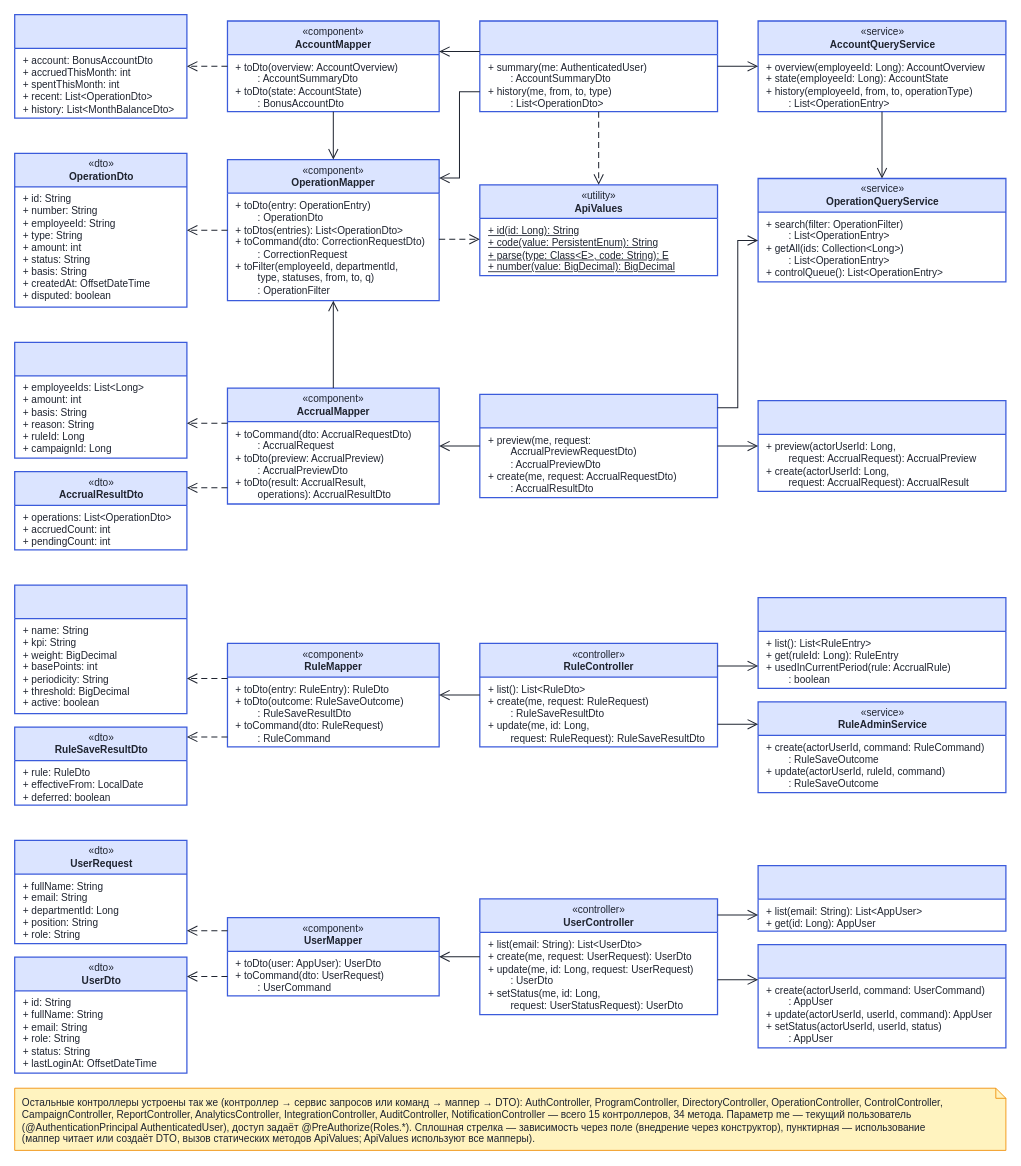
This 1021x1166 diagram has some shape labels left out. The box of each missing label's shape, as (x1, y1, x2, y2) in pixels:
«controller» AccountController: (479, 20, 718, 112)
«controller» AccrualController: (479, 393, 718, 498)
«dto» AccountSummaryDto: (14, 14, 187, 118)
«dto» AccrualRequestDto: (14, 341, 187, 458)
«dto» RuleRequest: (14, 584, 187, 714)
«service» AccrualService: (757, 400, 1006, 492)
«service» RuleQueryService: (757, 597, 1006, 689)
«service» UserAdminService: (757, 944, 1006, 1048)
«service» UserQueryService: (757, 865, 1006, 931)
